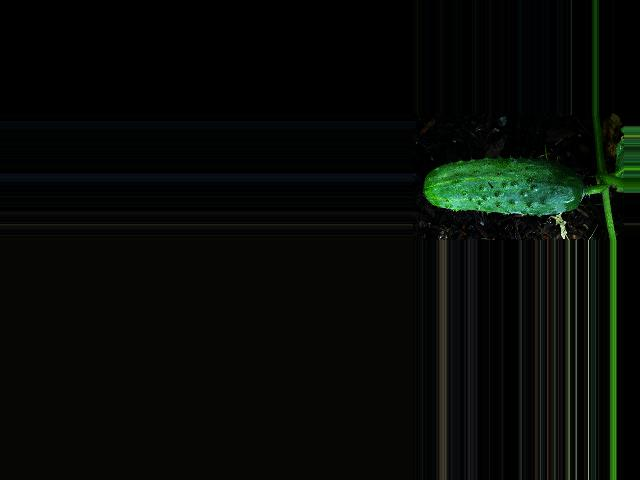cucumber: (421, 157, 583, 215)
